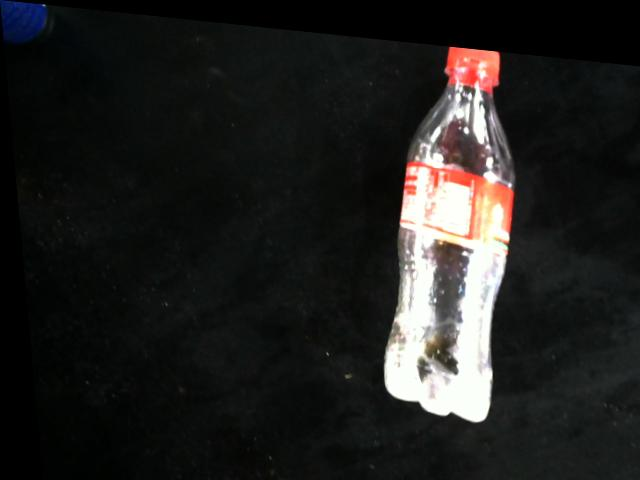bottle: (376, 37, 514, 414)
